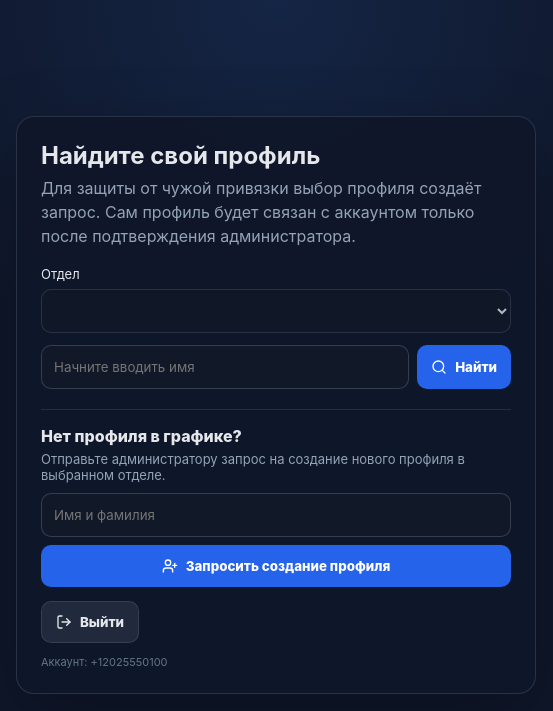
Test: Routing foundation with real session provider and ErrorBoundary › purges private browser data and blocks private UI when server logout fails
The width and height of the screenshot is (553, 711).
Click the button "Выйти" at point(90, 622), box [41, 601, 139, 643]
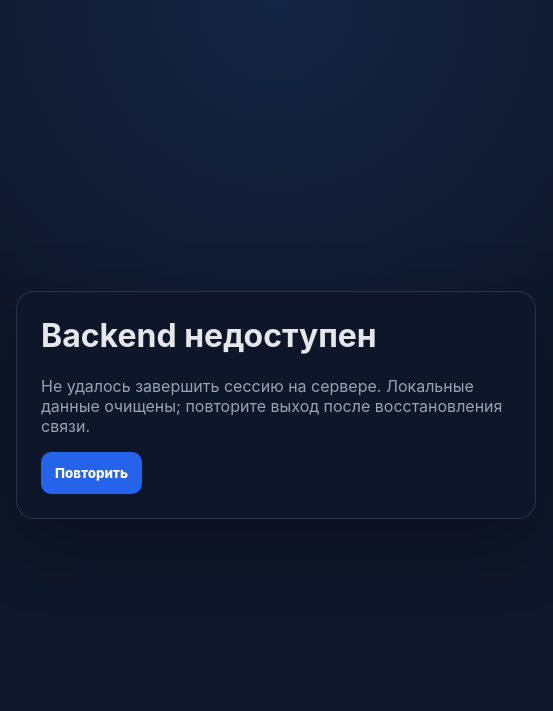
Expected: the heading "Backend недоступен" is shown, [41, 316, 377, 355]
Expected: the text "Не удалось завершить сессию на сервере. Локальные данные очищены; повторите выход после восстановления связи." is shown, [41, 376, 502, 436]
Expected: the text "Нет профиля в графике?" is gone
